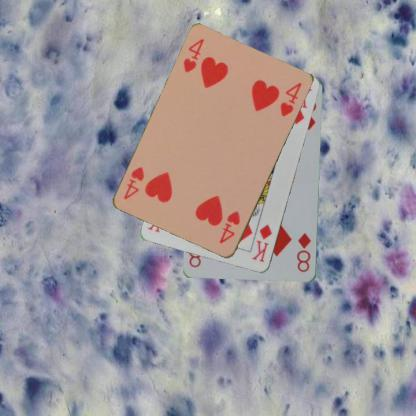4h: (217, 208, 242, 246), (181, 36, 206, 74)
8d: (294, 230, 313, 274)
Kd: (249, 222, 274, 264)
